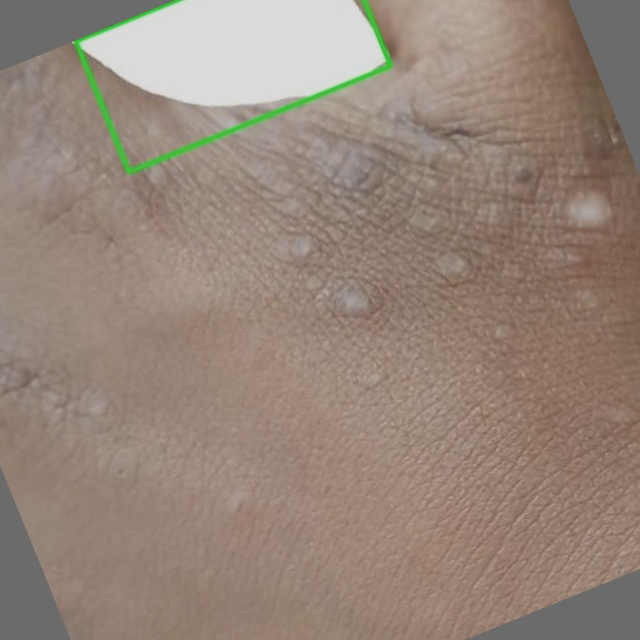Scabies: (75, 0, 390, 171)
